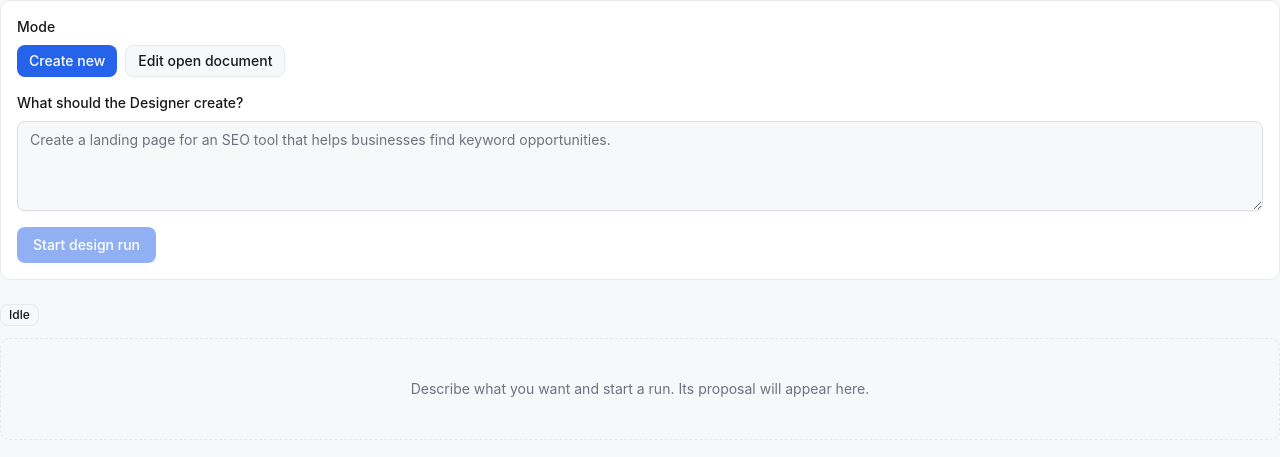
Designer › does not double-submit while a submission is in flight
Replace the text in the text box labelled "What should the Designer create?" with "A guide": (640, 166) [17, 121, 1263, 211]
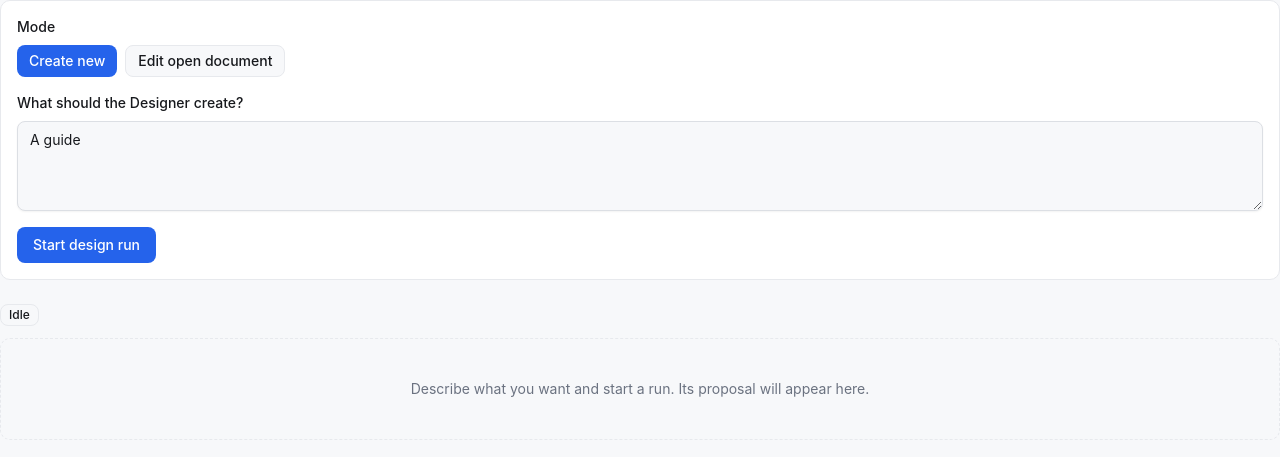
Click the button "Start design run": (86, 245) [17, 227, 156, 263]
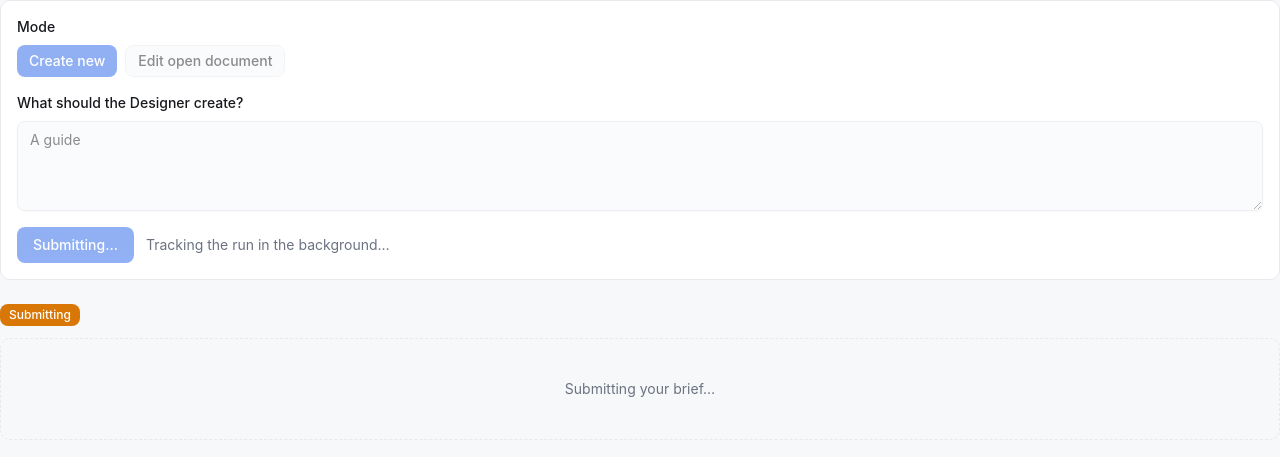
Click the button named "Start design run": (75, 245) [17, 227, 134, 263]
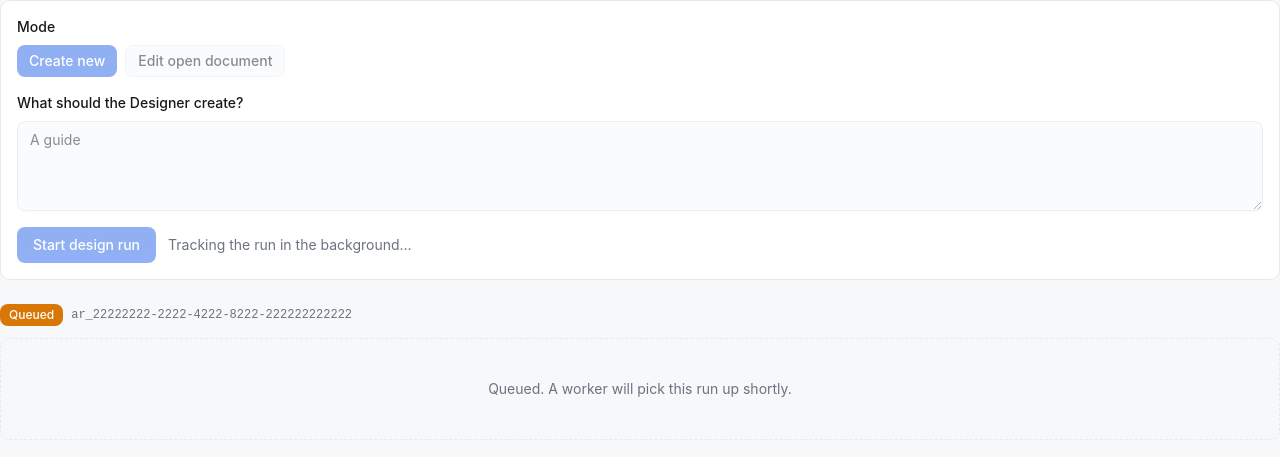
Expected: the text "Queued" is shown, [0, 304, 63, 326]
